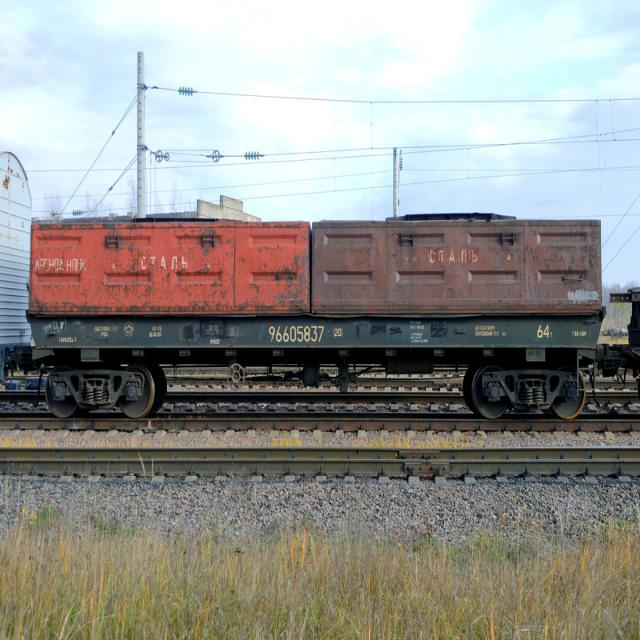cargo: (27, 195, 611, 318)
flatcar: (23, 306, 609, 427)
